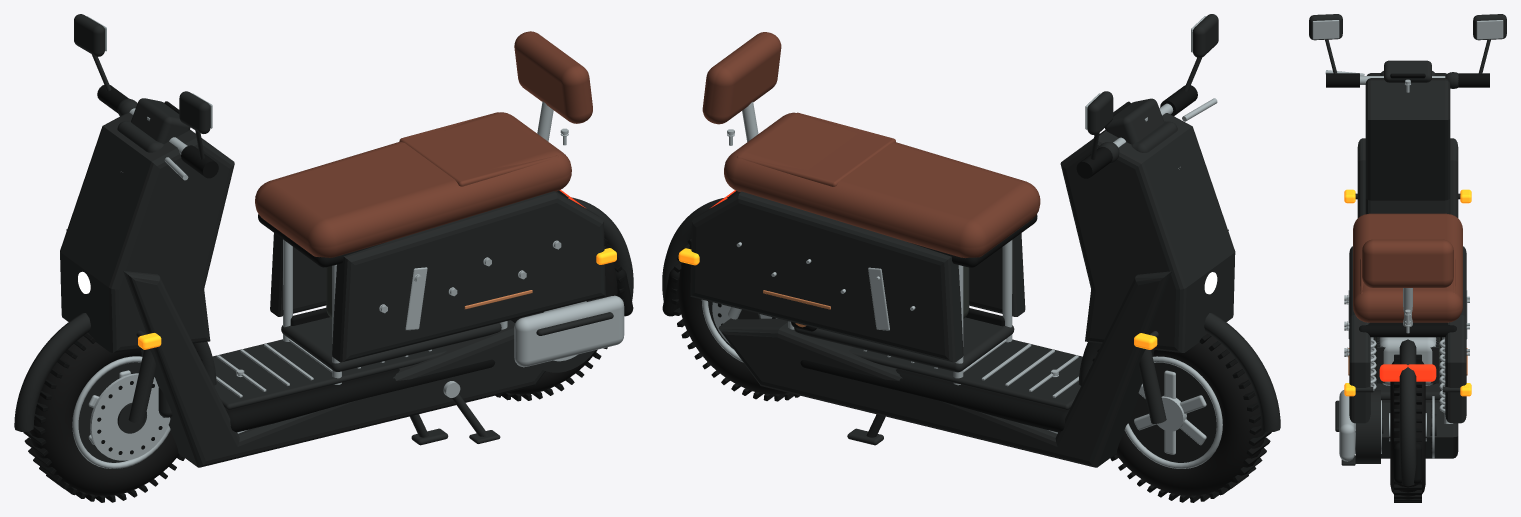
File: demo-ebike.glb
The picture shows the model from 3 angles, left to right: view 1: azimuth 30°, elevation 25°; view 2: azimuth 150°, elevation 25°; view 3: azimuth 270°, elevation 25°; orthographic projection. The views are drawn at different scales.
Parts seen in each view (by area): view 1: LeftPanel_Graphite_satin, Seat_Cognac_upholstery, FrontPanel_Graphite_satin, FrontCover_Graphite_satin, FrontWheel_Road_rubber, Frame_Graphite_satin, MotorCover_Machined_aluminum, Frame_Black_polymer, Backrest_Cognac_upholstery, FrontBrake_Machined_aluminum, BatteryCover_Graphite_satin, FrontFender_Graphite_satin (+17 smaller); view 2: RightPanel_Graphite_satin, Seat_Cognac_upholstery, FrontPanel_Graphite_satin, FrontCover_Graphite_satin, FrontWheel_Road_rubber, Frame_Graphite_satin, Frame_Black_polymer, Backrest_Cognac_upholstery, FrontWheel_Machined_aluminum, FrontWheel_Graphite_satin, FrontFender_Graphite_satin, BatteryCover_Graphite_satin (+14 smaller); view 3: FrontPanel_Graphite_satin, Seat_Cognac_upholstery, Backrest_Cognac_upholstery, FrontCover_Graphite_satin, RearFender_Graphite_satin, LeftPanel_Graphite_satin, RightPanel_Graphite_satin, Motor_Graphite_satin, RearWheel_Road_rubber, SeatBase_Black_polymer, RearWheel_Black_polymer, Controller_Machined_aluminum (+16 smaller).
Boxes of the visible parts, bbox=[...] form: LeftPanel_Graphite_satin: bbox=[332, 191, 605, 362]; Seat_Cognac_upholstery: bbox=[255, 112, 571, 257]; FrontPanel_Graphite_satin: bbox=[60, 112, 234, 352]; FrontCover_Graphite_satin: bbox=[66, 229, 545, 467]; FrontWheel_Road_rubber: bbox=[29, 333, 179, 496]; Frame_Graphite_satin: bbox=[212, 339, 446, 409]; MotorCover_Machined_aluminum: bbox=[514, 295, 624, 367]; Frame_Black_polymer: bbox=[225, 359, 495, 432]; Backrest_Cognac_upholstery: bbox=[514, 31, 592, 123]; FrontBrake_Machined_aluminum: bbox=[90, 373, 170, 460]; BatteryCover_Graphite_satin: bbox=[281, 317, 501, 371]; FrontFender_Graphite_satin: bbox=[14, 313, 216, 431]; RightPanel_Graphite_satin: bbox=[690, 191, 963, 362]; Seat_Cognac_upholstery: bbox=[724, 112, 1040, 258]; FrontPanel_Graphite_satin: bbox=[1060, 113, 1235, 352]; FrontCover_Graphite_satin: bbox=[718, 229, 1228, 467]; FrontWheel_Road_rubber: bbox=[1116, 333, 1265, 496]; Frame_Graphite_satin: bbox=[849, 339, 1082, 409]; Frame_Black_polymer: bbox=[800, 360, 1069, 432]; Backrest_Cognac_upholstery: bbox=[702, 32, 781, 124]; FrontWheel_Machined_aluminum: bbox=[1124, 356, 1222, 468]; FrontWheel_Graphite_satin: bbox=[1128, 362, 1216, 462]; FrontFender_Graphite_satin: bbox=[1078, 313, 1280, 431]; BatteryCover_Graphite_satin: bbox=[794, 317, 1014, 372]; FrontPanel_Graphite_satin: bbox=[1365, 73, 1450, 214]; Seat_Cognac_upholstery: bbox=[1353, 213, 1462, 322]; Backrest_Cognac_upholstery: bbox=[1362, 239, 1453, 287]; FrontCover_Graphite_satin: bbox=[1357, 138, 1458, 458]; RearFender_Graphite_satin: bbox=[1399, 339, 1416, 486]; LeftPanel_Graphite_satin: bbox=[1349, 246, 1370, 423]; RightPanel_Graphite_satin: bbox=[1445, 246, 1466, 423]; Motor_Graphite_satin: bbox=[1355, 390, 1383, 463]; RearWheel_Road_rubber: bbox=[1390, 361, 1425, 499]; SeatBase_Black_polymer: bbox=[1359, 322, 1456, 337]; RearWheel_Black_polymer: bbox=[1394, 354, 1421, 502]; Controller_Machined_aluminum: bbox=[1379, 337, 1436, 385].
Size of the model in its own units: 3.91 by 2.6 by 1.4.
